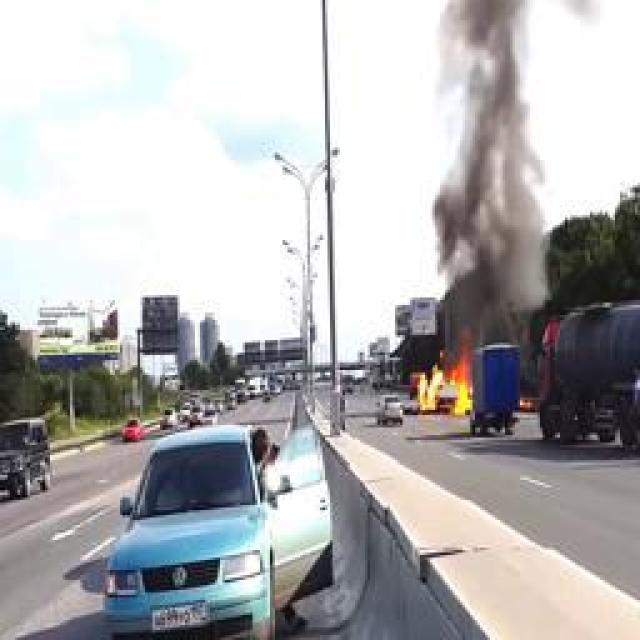Fire: (418, 330, 472, 418)
